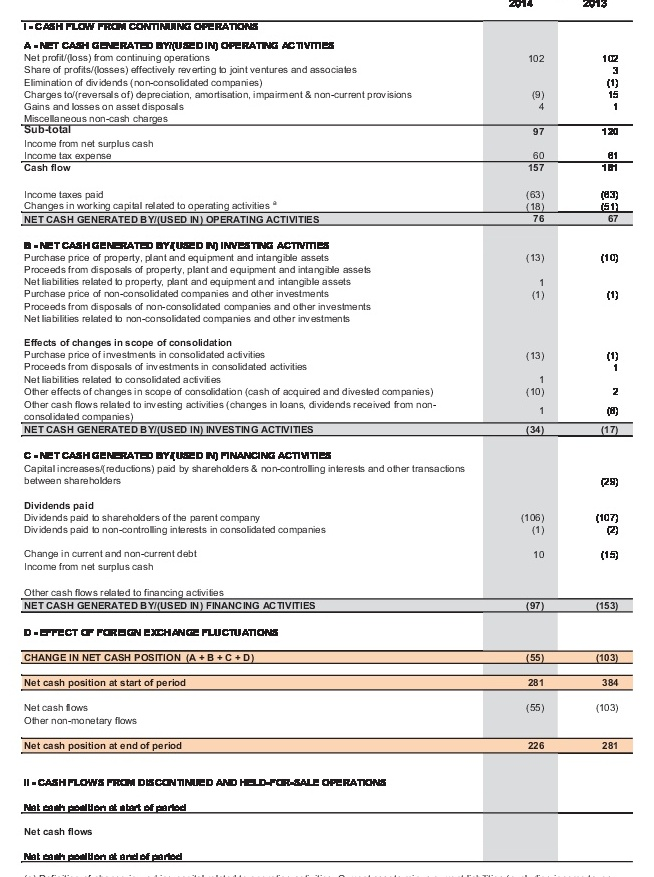table: (0, 0, 654, 877)
